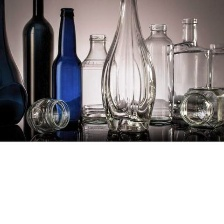bottle: (99, 0, 159, 134), (168, 16, 212, 123), (50, 6, 85, 125), (22, 0, 55, 122), (0, 0, 28, 130), (142, 21, 176, 126), (78, 31, 110, 126), (179, 84, 223, 131), (25, 95, 73, 137), (206, 38, 224, 95)
